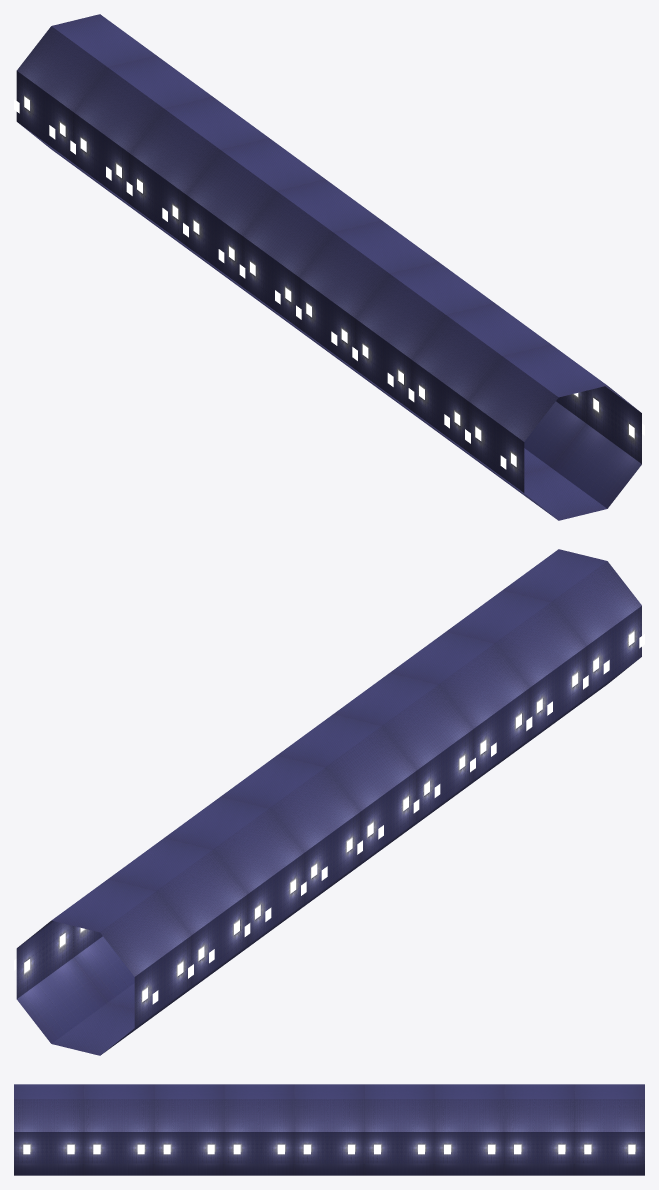
Rendered from fixedtube.fbx.
The picture shows the model from 3 angles, top to bottom: view 1: azimuth 30°, elevation 25°; view 2: azimuth 150°, elevation 25°; view 3: azimuth 270°, elevation 25°; orthographic projection. The views are drawn at different scales.
Parts seen in each view (by area): view 1: Material2.031, Material2.383, Material2.111, Material2.127, Material2.063, Material2.159, Material2.047, Material2.223, Material2.149, Material2.015, Material2.155, Material2.017 (+44 smaller); view 2: Material2.063, Material2.031, Material2.111, Material2.127, Material2.159, Material2.015, Material2.047, Material2.223, Material2.383, Material2.005, Material2.107, Material2.011 (+44 smaller); view 3: Material2.029, Material2.061, Material2.109, Material2.381, Material2.045, Material2.221, Material2.125, Material2.013, Material2.157, Material2.121, Material2.025, Material2.041 (+60 smaller).
Boxes of the visible parts, x1,y1,x2,y2 form: Material2.031: (355, 274, 445, 359); Material2.383: (73, 67, 163, 152); Material2.111: (186, 150, 276, 235); Material2.127: (411, 315, 501, 400); Material2.063: (242, 191, 332, 276); Material2.159: (468, 356, 558, 441); Material2.047: (299, 232, 389, 317); Material2.223: (130, 109, 219, 193); Material2.149: (551, 423, 641, 508); Material2.015: (17, 26, 107, 111); Material2.155: (468, 401, 524, 492); Material2.017: (51, 14, 155, 67); Material2.063: (326, 726, 416, 811); Material2.031: (438, 643, 528, 728); Material2.111: (269, 767, 359, 852); Material2.127: (495, 602, 585, 687); Material2.159: (551, 561, 641, 646); Material2.015: (100, 891, 190, 976); Material2.047: (382, 685, 472, 770); Material2.223: (213, 809, 303, 894); Material2.383: (156, 850, 246, 935); Material2.005: (17, 958, 107, 1043); Material2.107: (303, 812, 360, 903); Material2.011: (134, 936, 190, 1027); Material2.029: (154, 1099, 224, 1131); Material2.061: (294, 1099, 364, 1131); Material2.109: (364, 1099, 434, 1131); Material2.381: (504, 1099, 574, 1131); Material2.045: (224, 1099, 294, 1131); Material2.221: (434, 1099, 504, 1131); Material2.125: (84, 1099, 154, 1131); Material2.013: (575, 1099, 644, 1131); Material2.157: (14, 1099, 83, 1131); Material2.121: (84, 1132, 154, 1163); Material2.025: (154, 1132, 224, 1163); Material2.041: (224, 1132, 294, 1163).
Size of the model in its own units: 15324 by 13028 by 97137.
